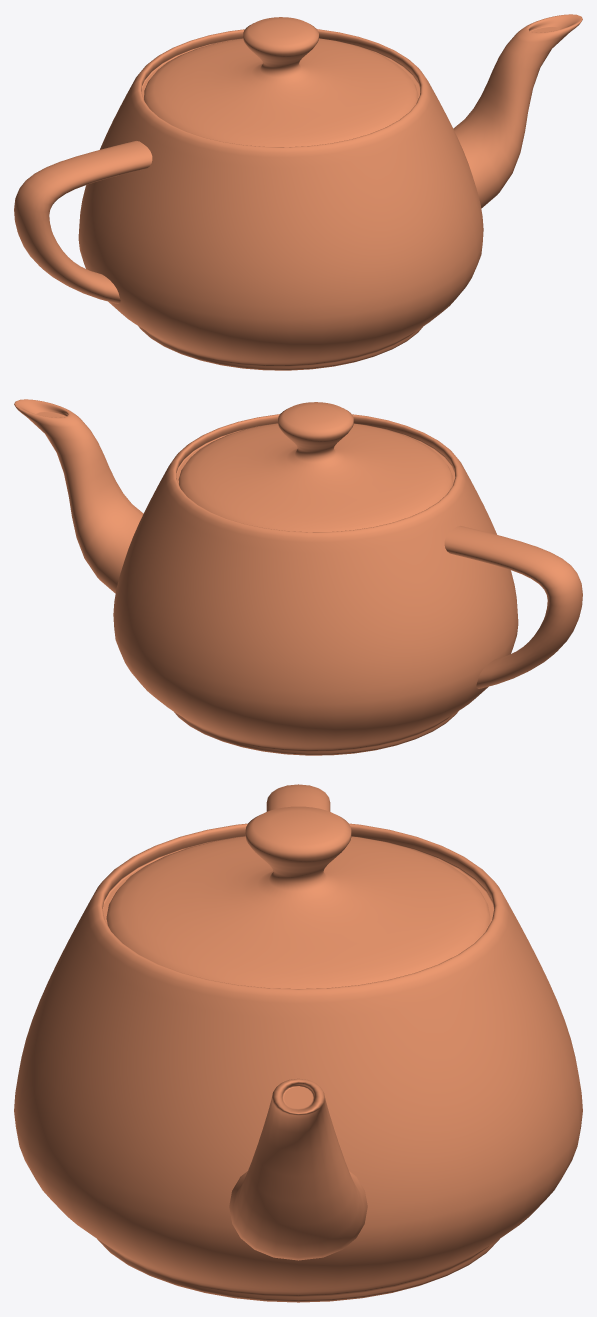
File: Teapot.gltf
3 renders of one model, top to bottom at view 1: azimuth 30°, elevation 25°; view 2: azimuth 150°, elevation 25°; view 3: azimuth 270°, elevation 25°, orthographic. The views are drawn at different scales.
Visible parts, largest first — view 1: Teapot; view 2: Teapot; view 3: Teapot.
Boxes of the visible parts, x1,y1,x2,y2 form: Teapot: (14,14,582,370); Teapot: (14,399,582,755); Teapot: (14,784,582,1302).
Size of the model in its own units: 6.43 by 3.15 by 4.01.
